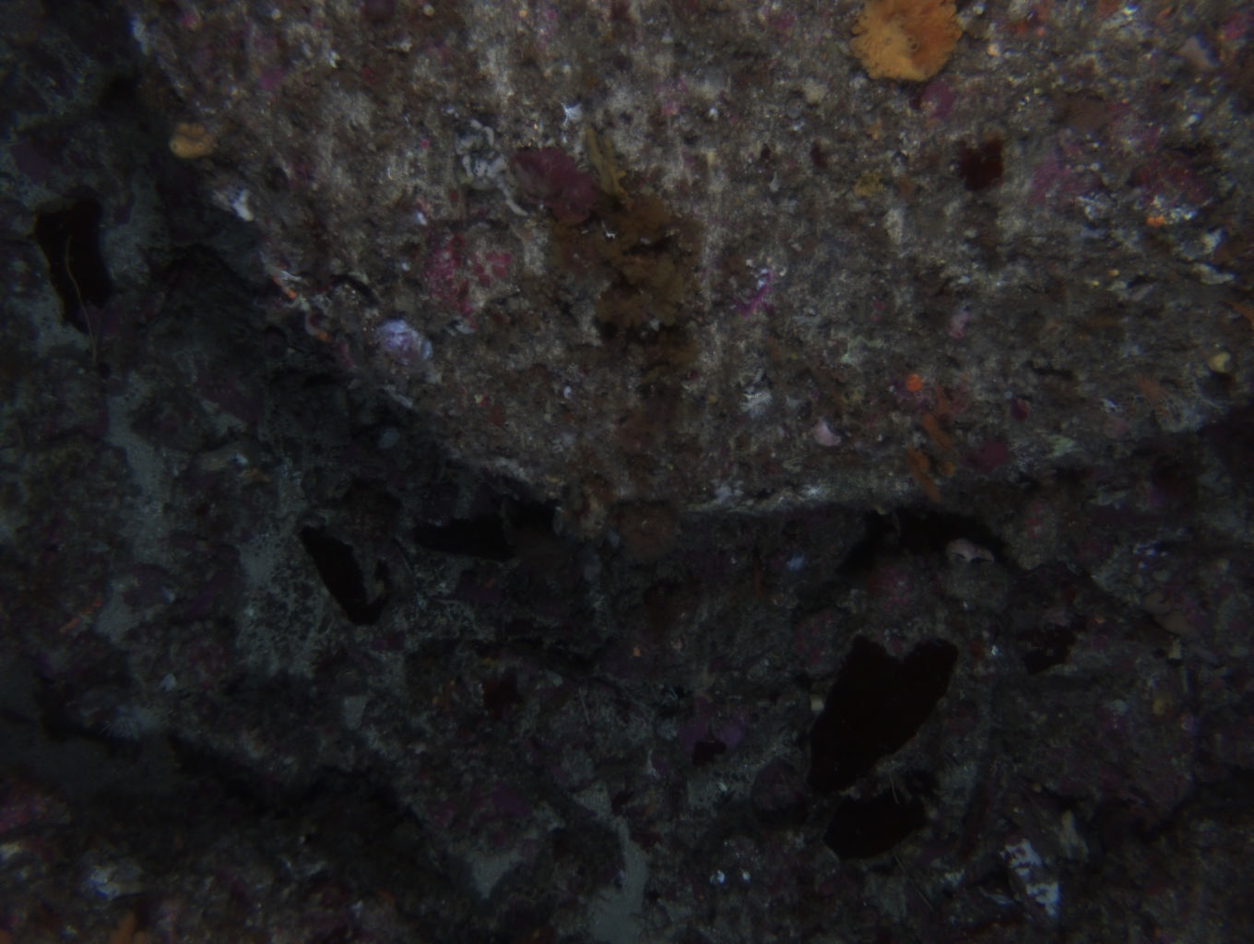Brachionichthyidae: (945, 535, 997, 568)
